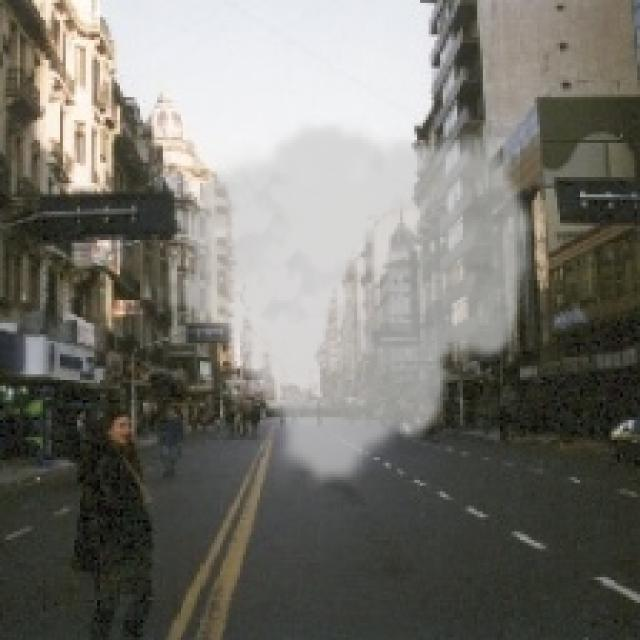Smoke: (168, 117, 538, 494)
